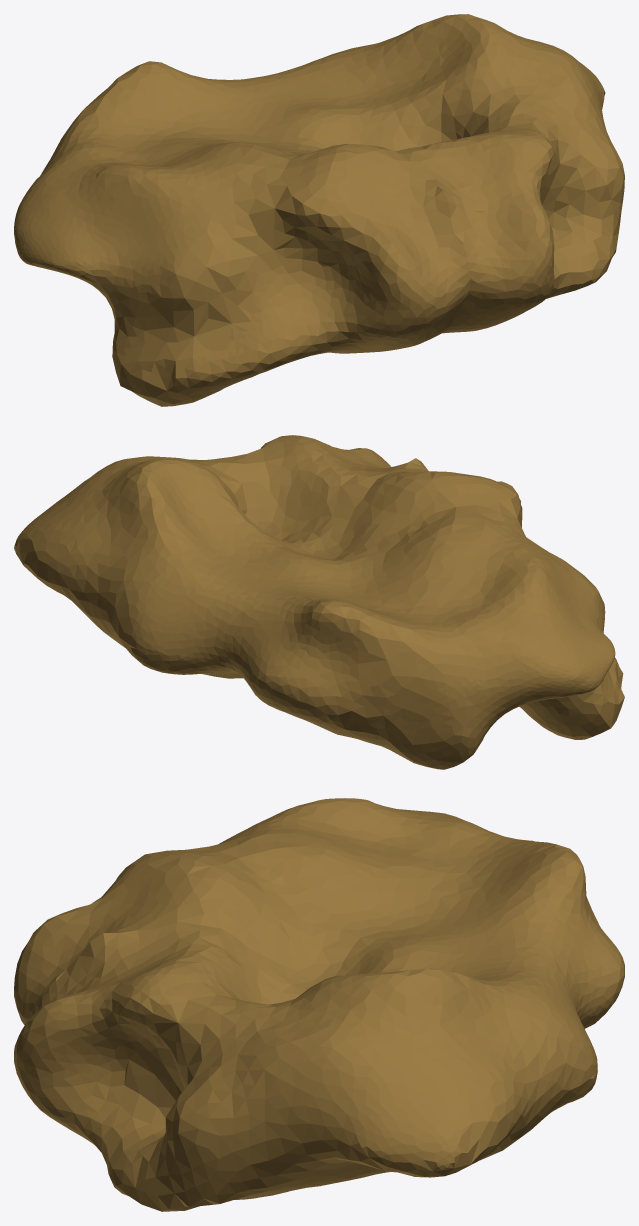
The model's file is little_shooting_star_3.fbx.
The picture shows the model from 3 angles, top to bottom: view 1: azimuth 30°, elevation 25°; view 2: azimuth 150°, elevation 25°; view 3: azimuth 270°, elevation 25°; orthographic projection. The views are drawn at different scales.
Parts seen in each view (by area): view 1: Sphere; view 2: Sphere; view 3: Sphere.
Boxes of the visible parts, box(x1,y1,x2,y2) form: Sphere: box(14, 14, 624, 406); Sphere: box(14, 435, 624, 769); Sphere: box(14, 798, 624, 1211).
Bounding box in the file's own units: 1205 × 476 × 899.
